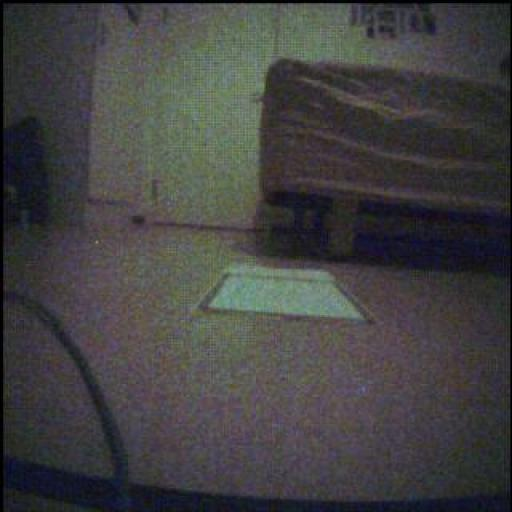pad: (201, 265, 369, 324)
